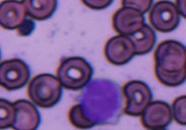L: (79, 76, 122, 126)
